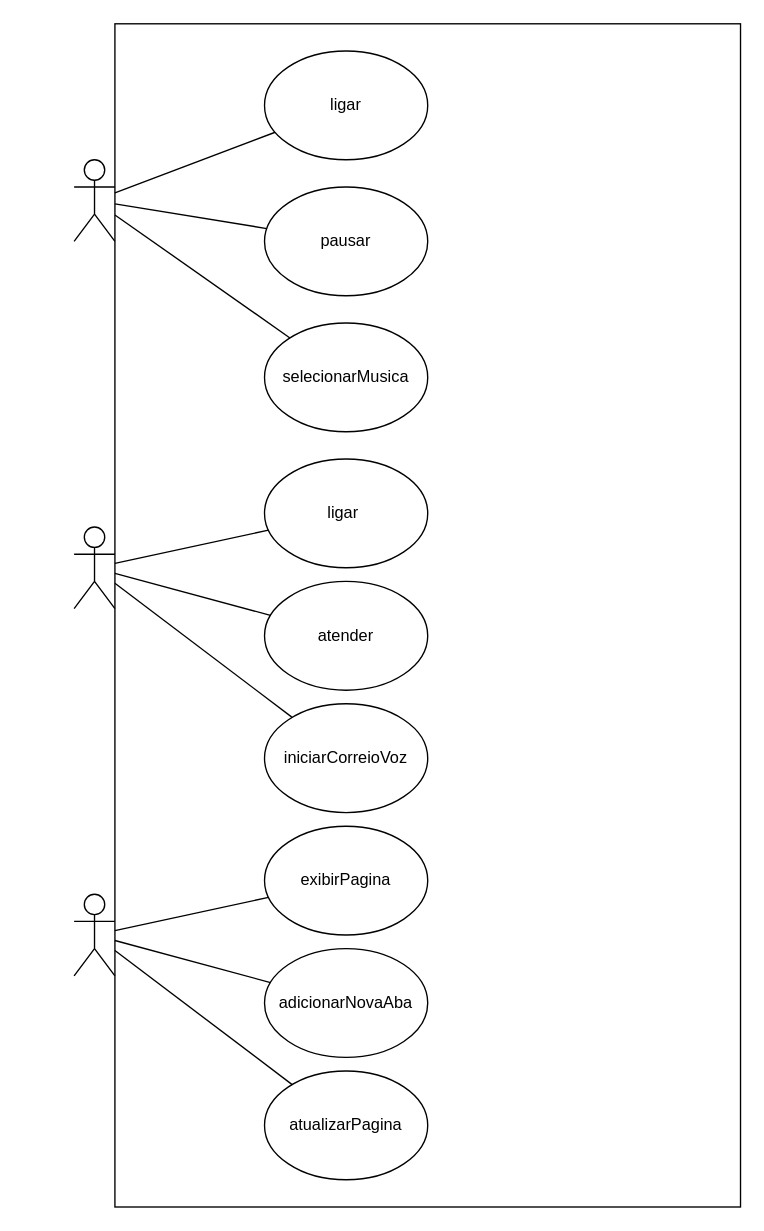
The diagram is 764 pixels wide and 1231 high, and some of its shapes have lost their labels. The centre of each missing label's shape, as x and y in pixels:
Aparelho telefônico: the point at 94,567
Navegar na internet: the point at 94,934
Reprodutor musical: the point at 94,199
